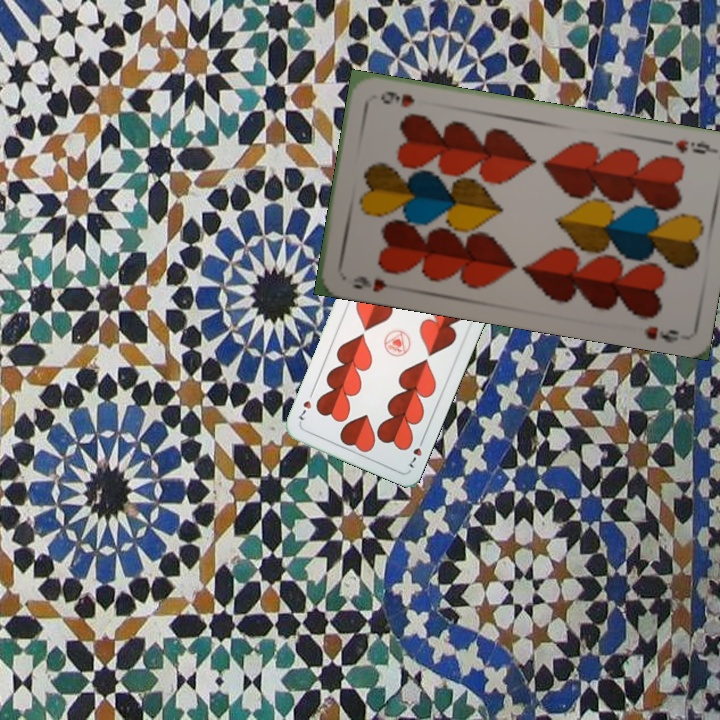H7: (405, 433, 427, 471)
H9: (671, 135, 717, 157), (349, 271, 390, 295)
